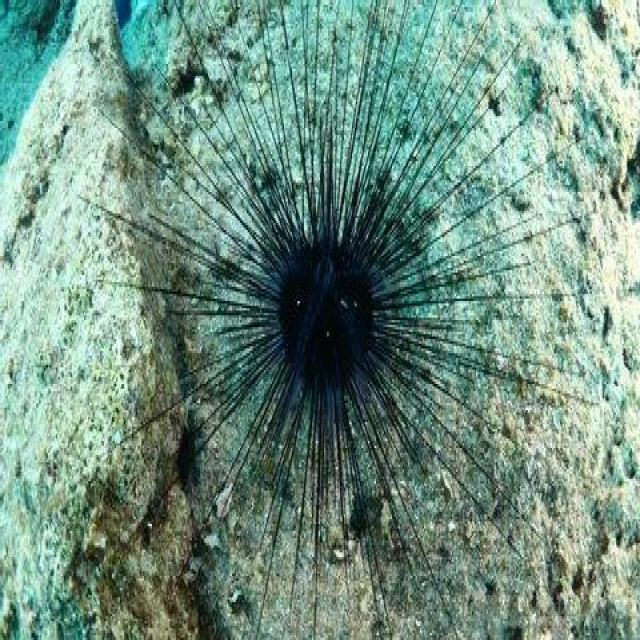Urchin: (87, 17, 580, 608)
